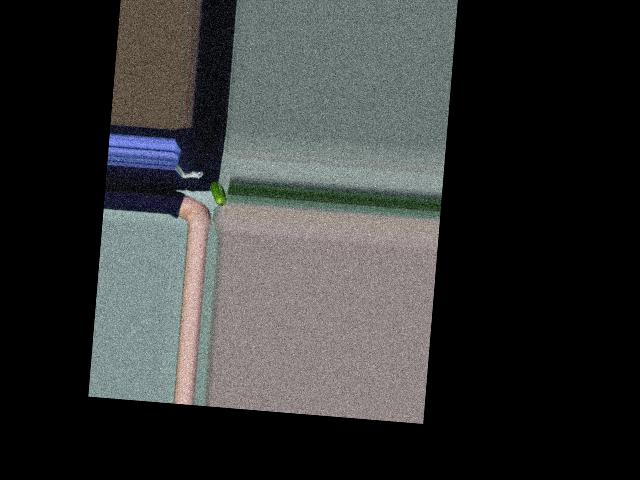cucumber: (208, 181, 228, 206)
